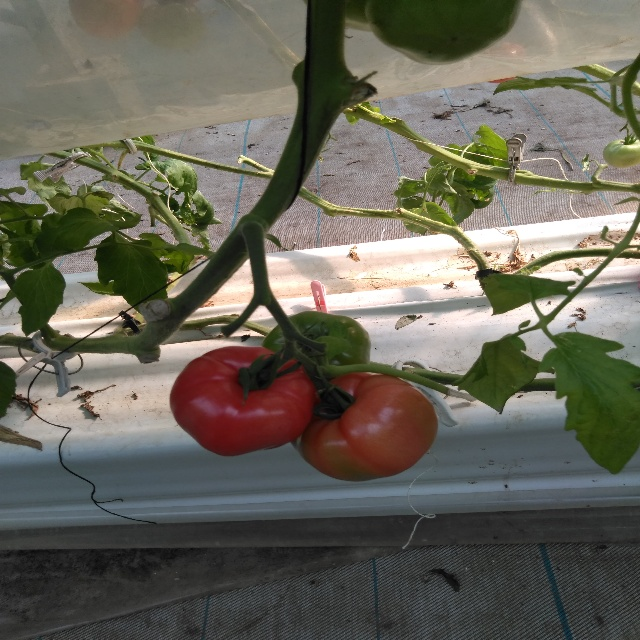b_fully_ripened: (168, 345, 320, 456)
b_green: (366, 0, 523, 65), (262, 311, 371, 388), (303, 0, 373, 32), (602, 139, 639, 169)
b_half_ripened: (292, 372, 439, 482)
